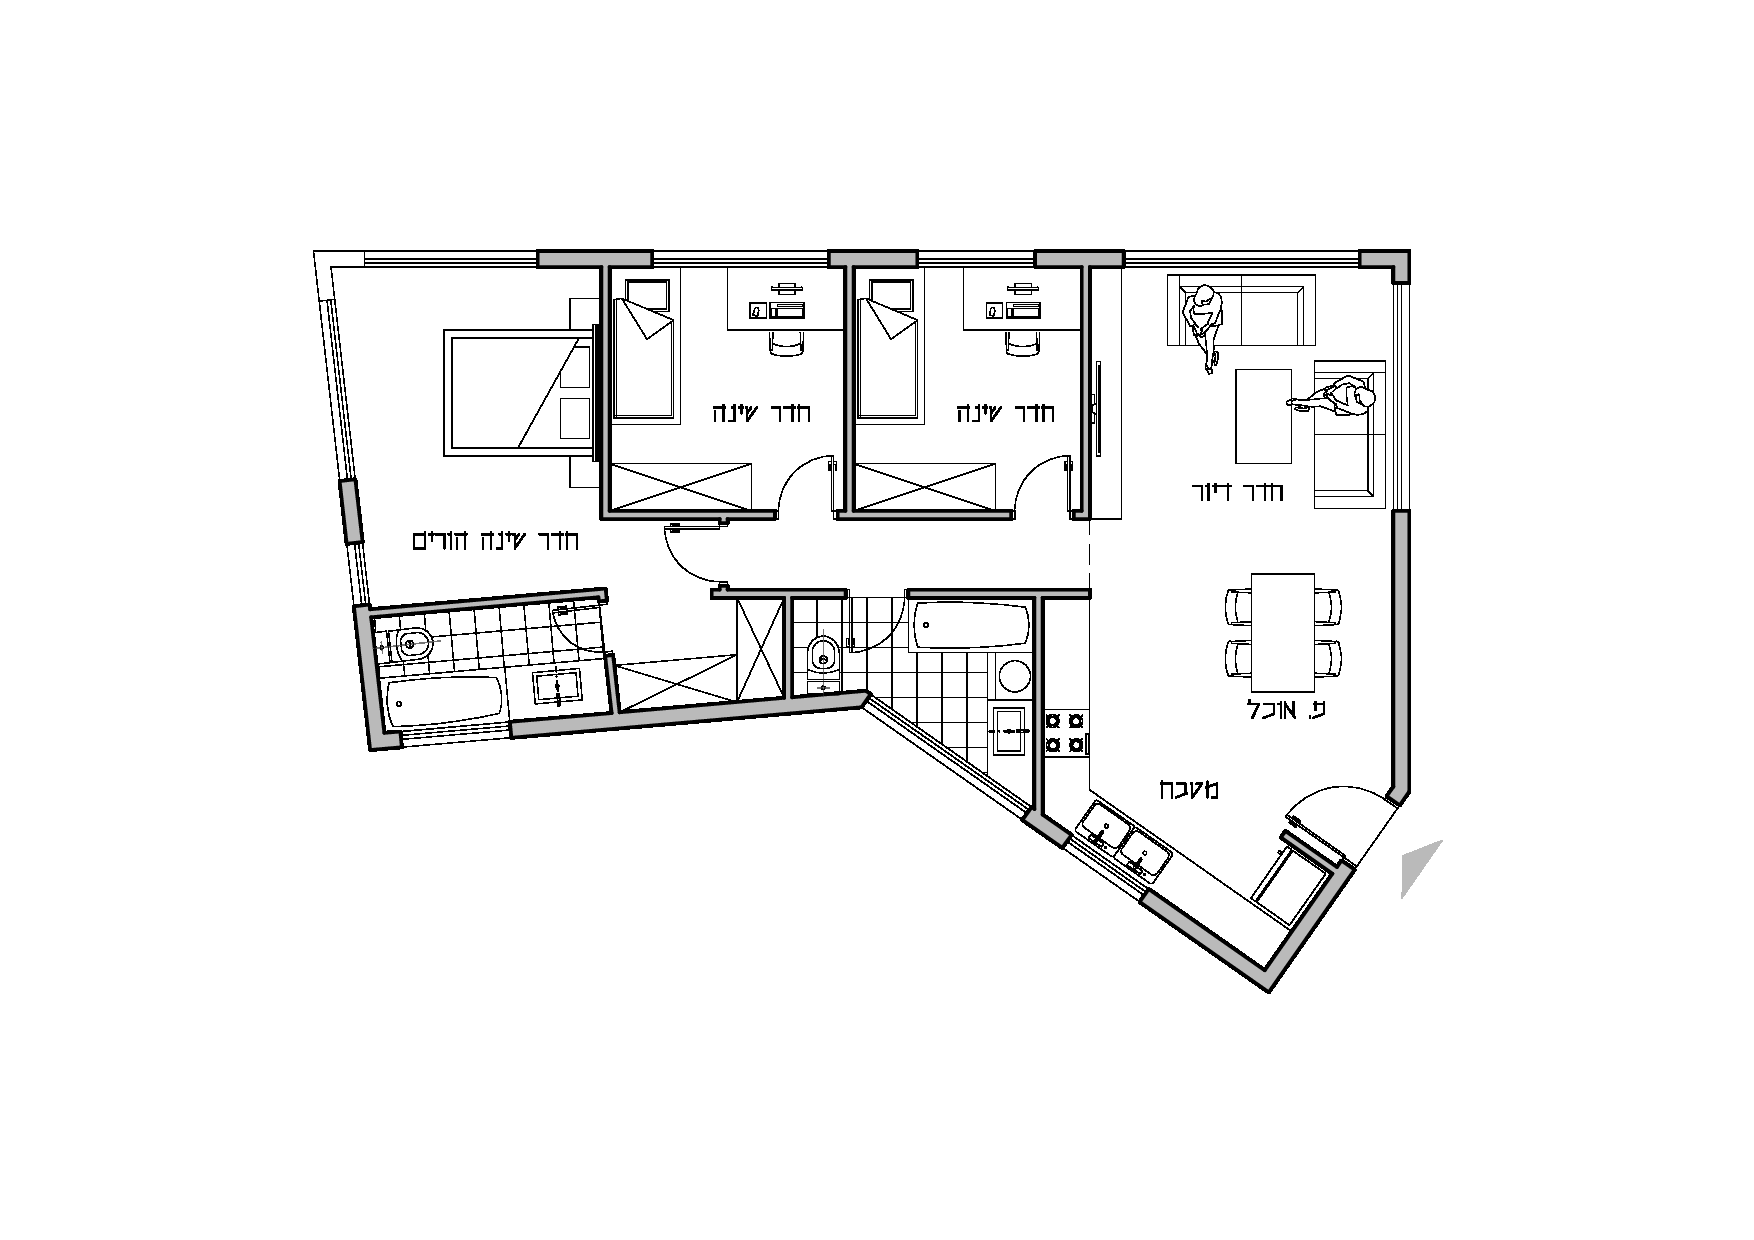room: (1080, 247, 1410, 527), (599, 251, 854, 519), (843, 250, 1092, 521)
